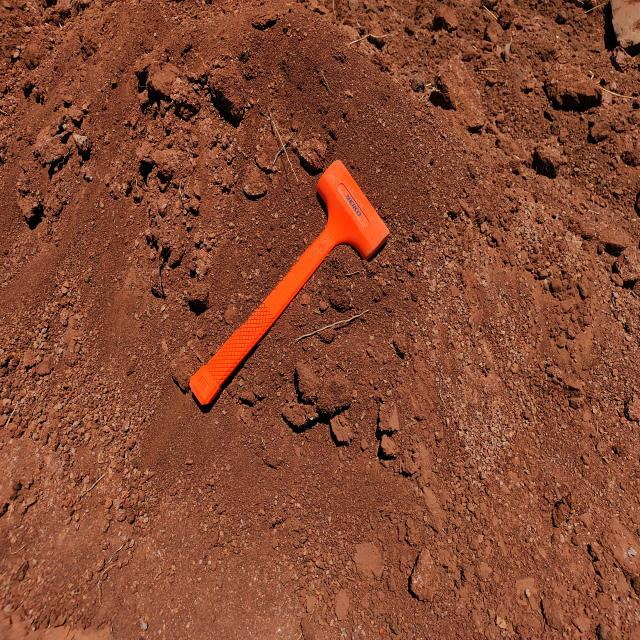Orange_hammer: (188, 158, 390, 408)
